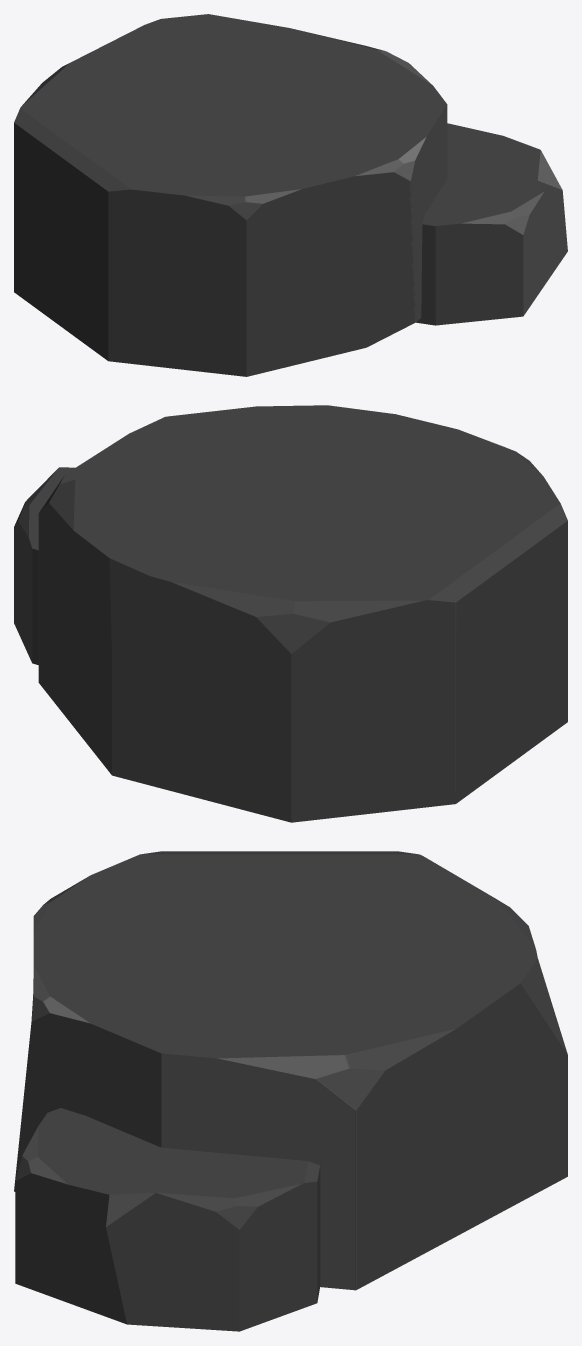
File: kaya6.fbx
3 renders of one model, top to bottom at view 1: azimuth 30°, elevation 25°; view 2: azimuth 150°, elevation 25°; view 3: azimuth 270°, elevation 25°, orthographic. The views are drawn at different scales.
Parts seen in each view (by area): view 1: kaya6; view 2: kaya6; view 3: kaya6.
Part boxes in pixels (bbox=[...]): kaya6: bbox=[14, 14, 567, 376]; kaya6: bbox=[14, 405, 567, 822]; kaya6: bbox=[14, 851, 567, 1331].
Bounding box in the file's own units: 85.05 × 33.4 × 72.76.
1 material, 1 textured.
